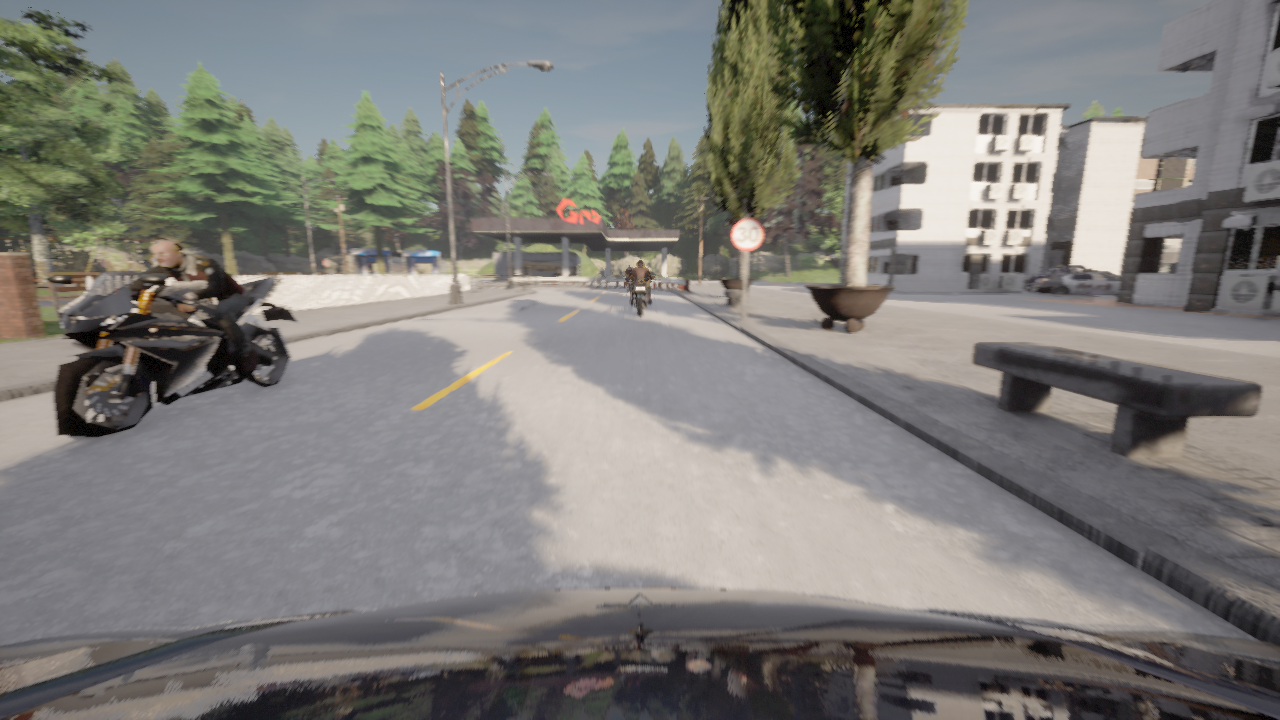cyclist: (0, 588, 1279, 719), (43, 269, 297, 437), (1031, 270, 1119, 295), (1026, 266, 1085, 291), (626, 276, 653, 316), (593, 274, 608, 288), (551, 272, 580, 276), (628, 280, 630, 291), (1036, 280, 1042, 282)
